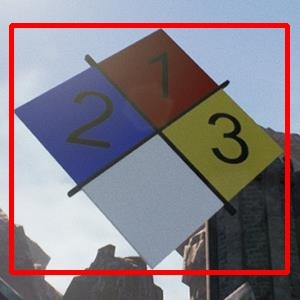nfpa: (11, 25, 287, 272)
